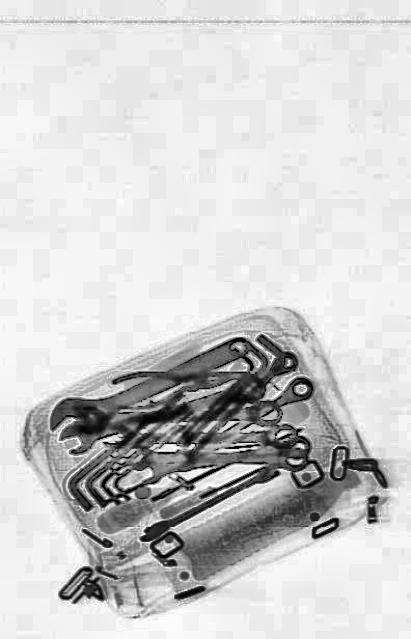Wrench: (45, 318, 255, 453), (57, 370, 265, 458), (134, 442, 306, 486)
